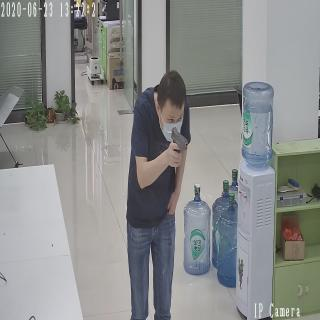gun: (169, 125, 189, 168)
